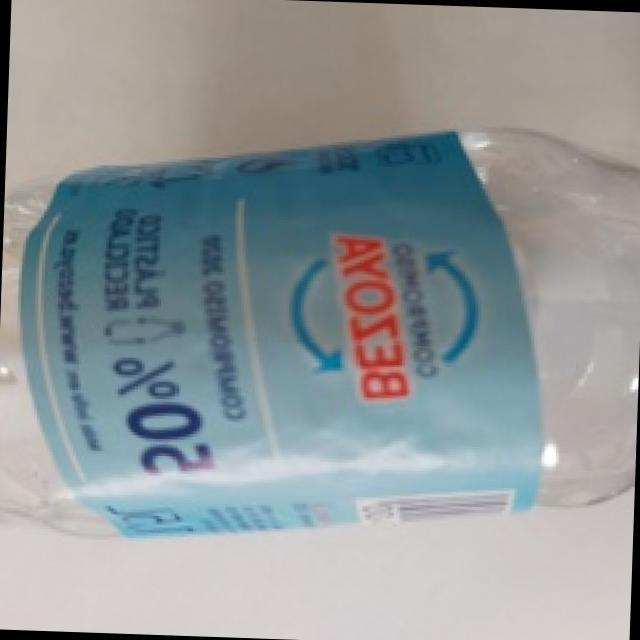good: (0, 86, 640, 571)
